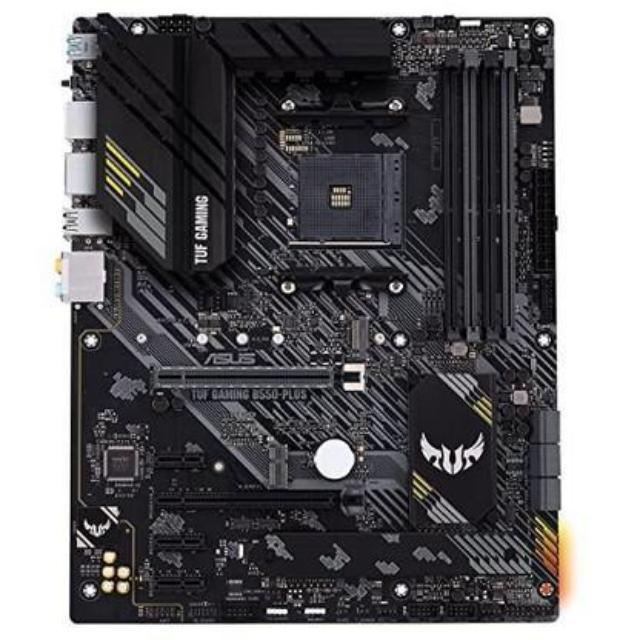Mainboard: (57, 9, 566, 628)
